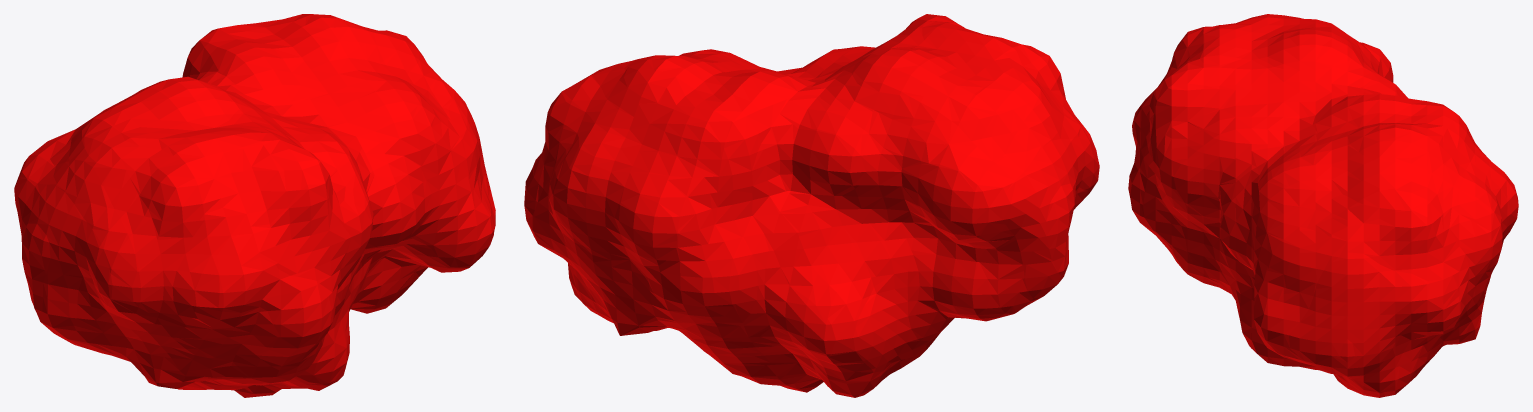
File: elbB_coarse.dae
3 views of the same model, side by side, from view 1: azimuth 30°, elevation 25°; view 2: azimuth 150°, elevation 25°; view 3: azimuth 270°, elevation 25° (orthographic). The views are drawn at different scales.
Parts seen in each view (by area): view 1: elbB; view 2: elbB; view 3: elbB.
Boxes of the visible parts, bbox=[...] form: elbB: bbox=[14, 14, 495, 397]; elbB: bbox=[524, 14, 1099, 397]; elbB: bbox=[1128, 14, 1518, 397].
Size of the model in its own units: 72.76 by 49.62 by 58.57.
